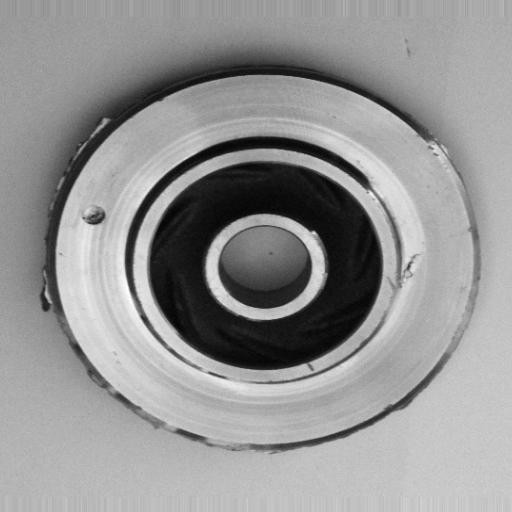casting_with_burr: (38, 64, 482, 460)
crack: (385, 236, 429, 309)
pit: (77, 196, 110, 231)
scratch: (293, 349, 334, 390), (362, 176, 399, 217)
